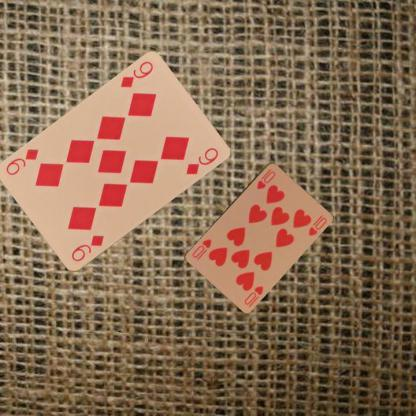10h: (254, 166, 277, 190), (242, 283, 264, 306)
9d: (68, 232, 106, 264), (118, 58, 154, 90)
